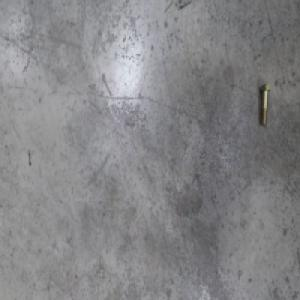Bolt: (257, 83, 270, 126)
